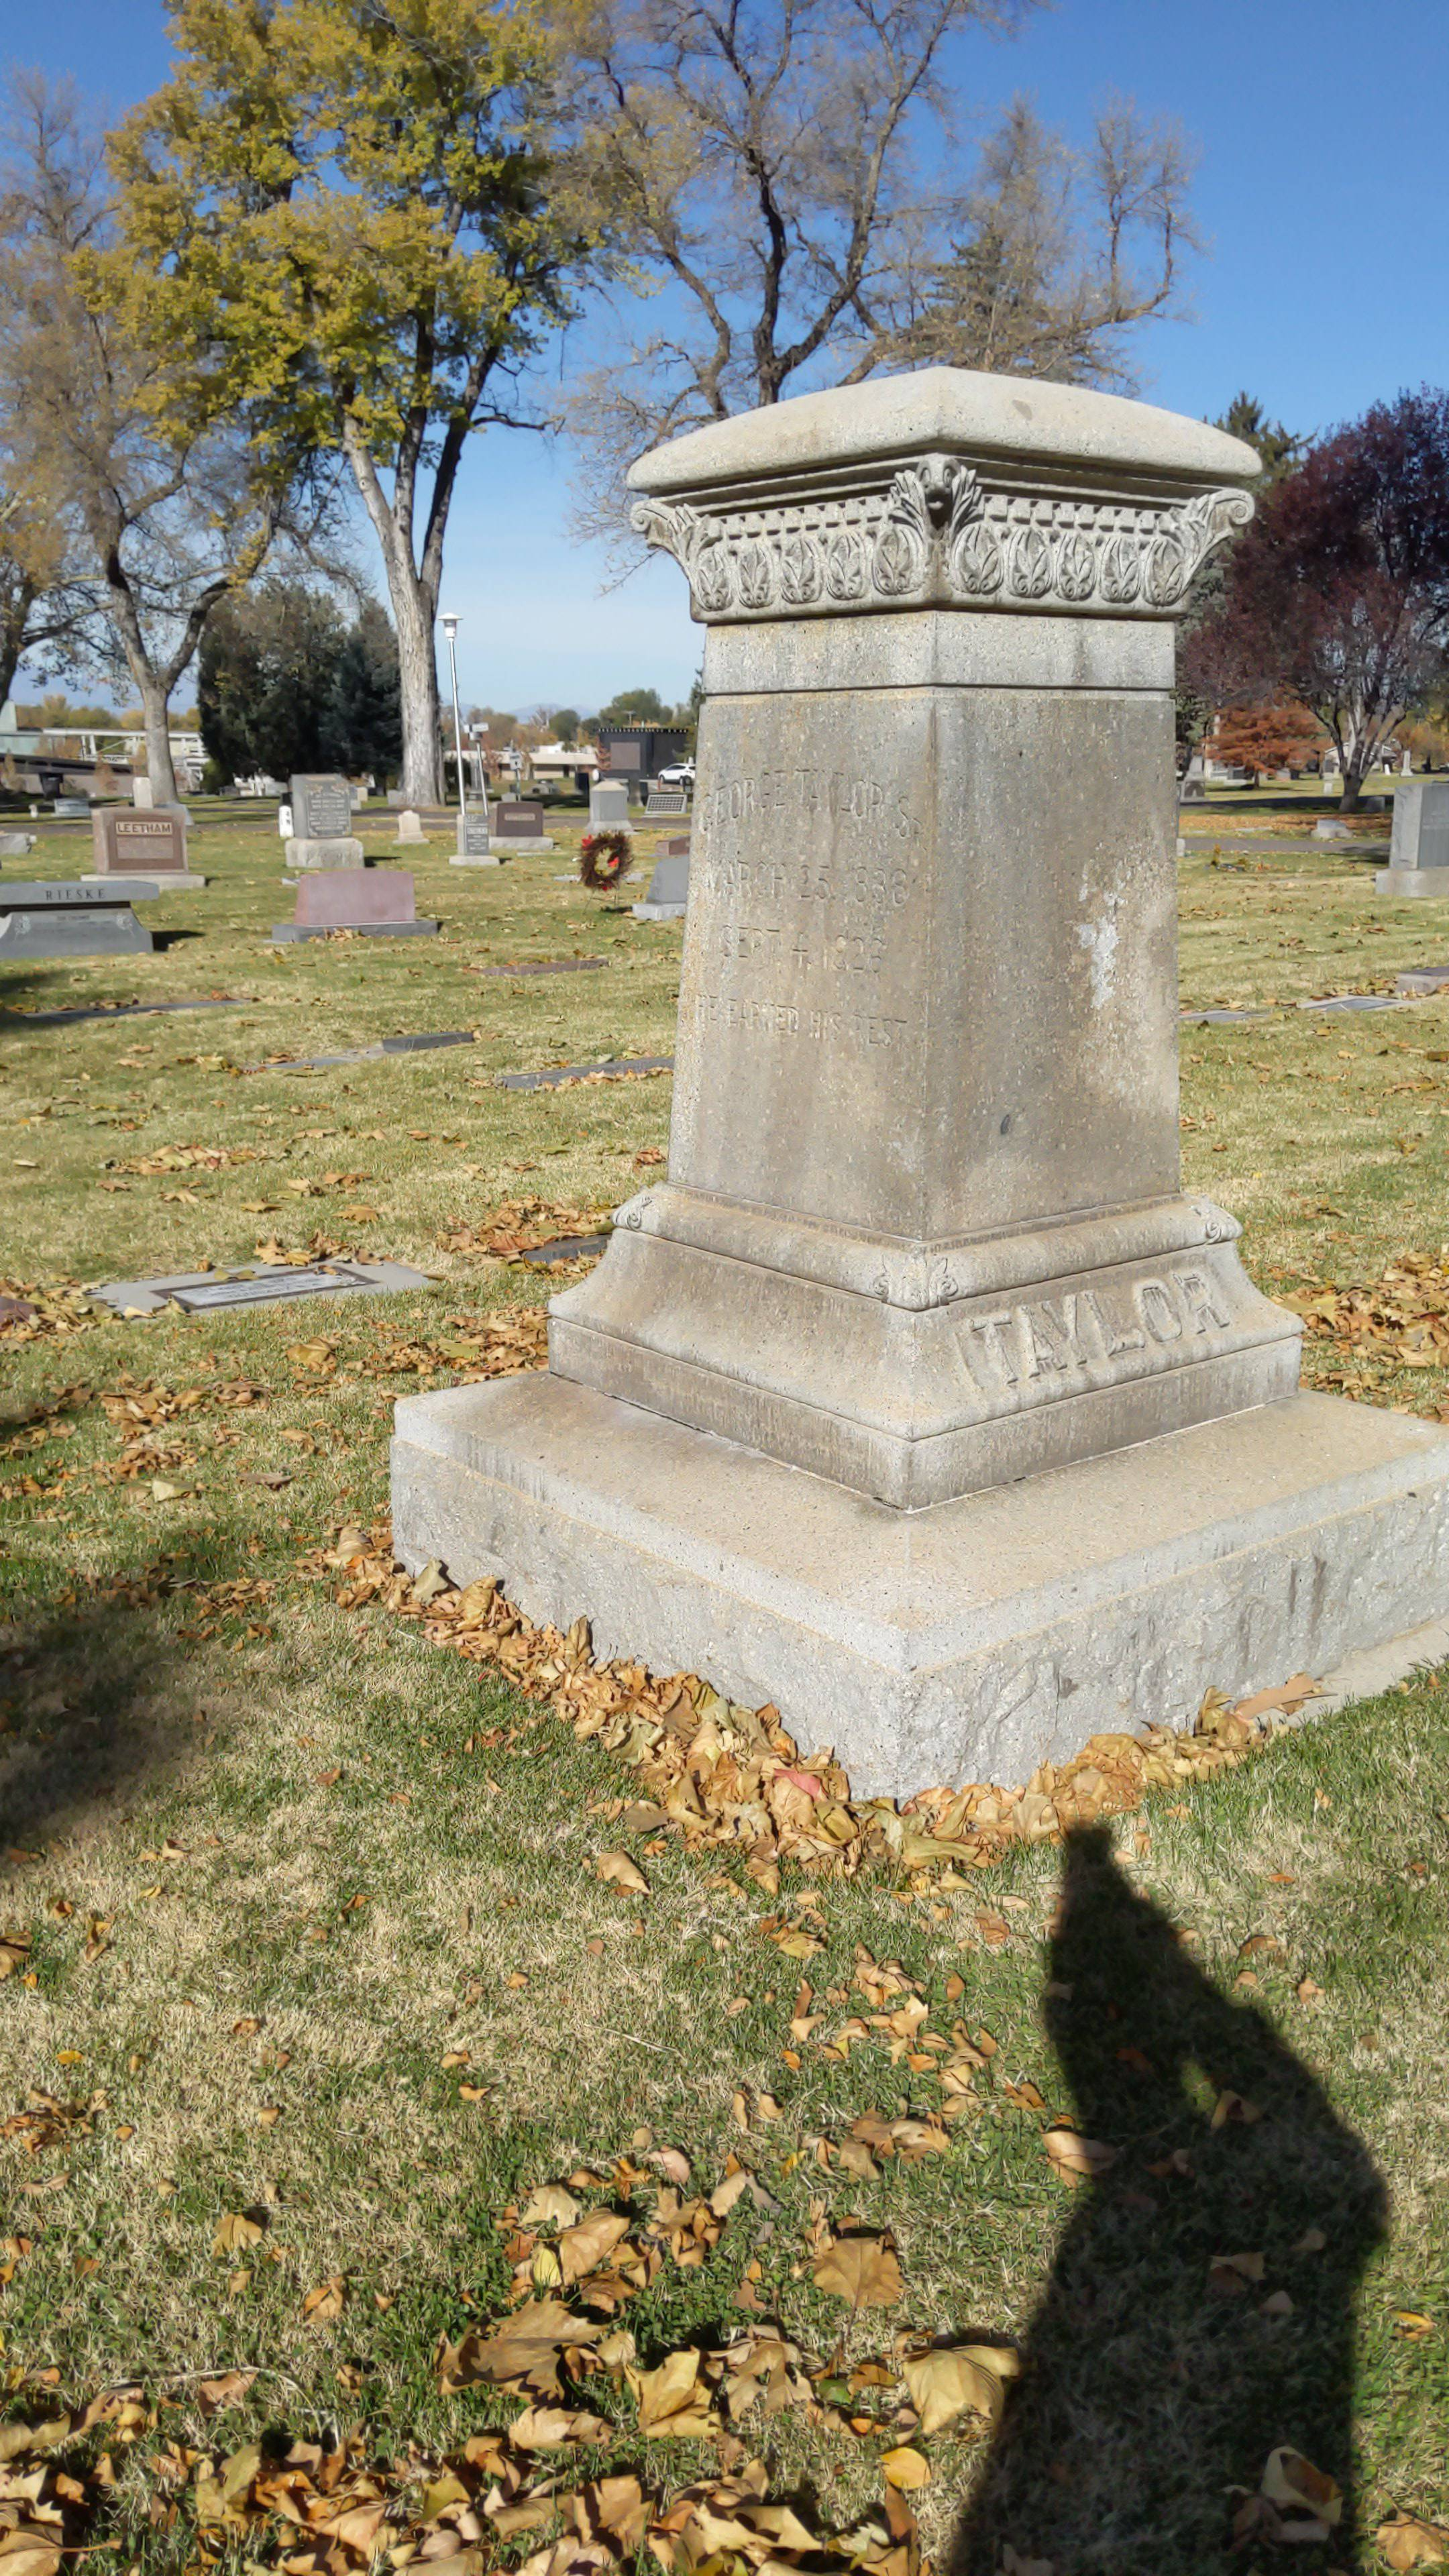obelisk: (547, 366, 1299, 1516)
